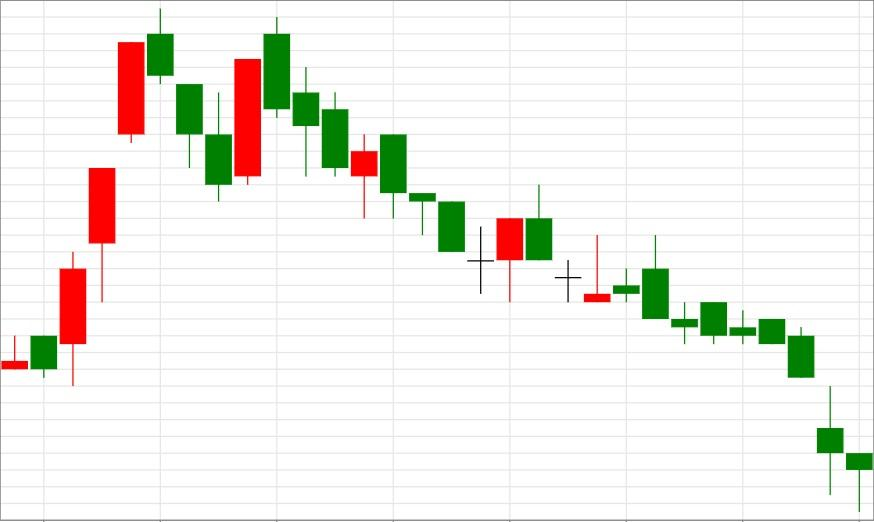three_black_crows_fall: (0, 8, 233, 386)
